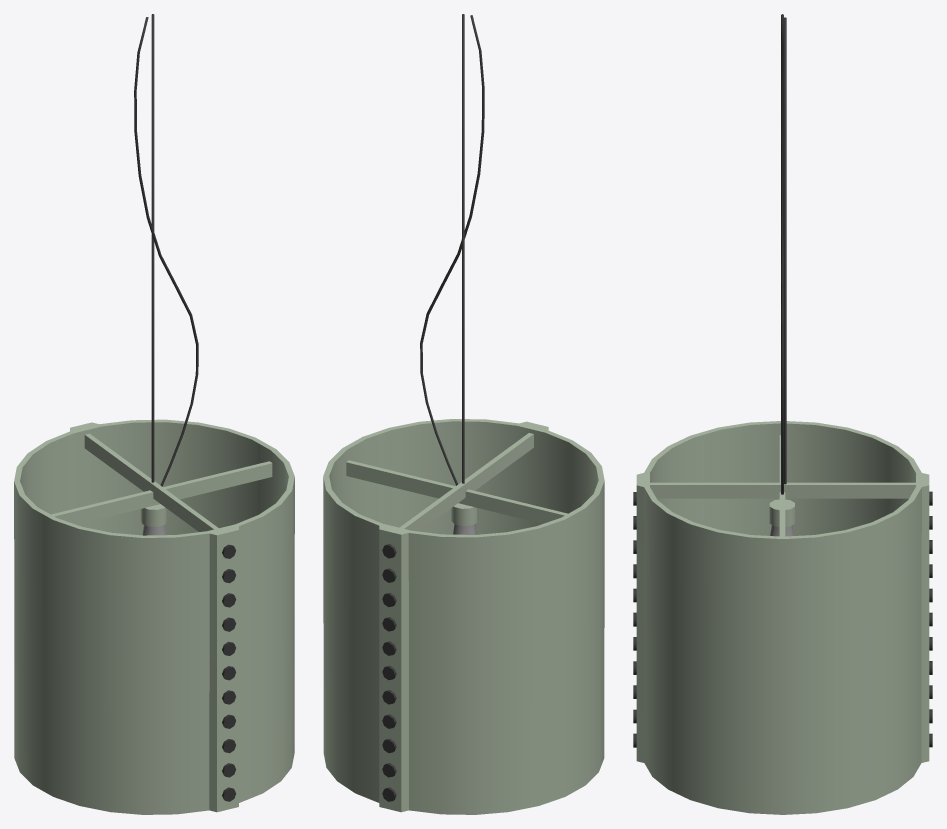
The model's file is SM_DR_Hanginglamp_01.FBX.
3 renders of one model, left to right at view 1: azimuth 30°, elevation 25°; view 2: azimuth 150°, elevation 25°; view 3: azimuth 270°, elevation 25°, orthographic.
Visible parts, largest first — view 1: SM_DR_Hanginglamp_01; view 2: SM_DR_Hanginglamp_01; view 3: SM_DR_Hanginglamp_01.
Boxes of the visible parts, x1=… form: SM_DR_Hanginglamp_01: x1=14, y1=14, x2=294, y2=814; SM_DR_Hanginglamp_01: x1=323, y1=14, x2=604, y2=814; SM_DR_Hanginglamp_01: x1=633, y1=14, x2=932, y2=814.
Bounding box in the file's own units: 1168 × 3398 × 1249.
